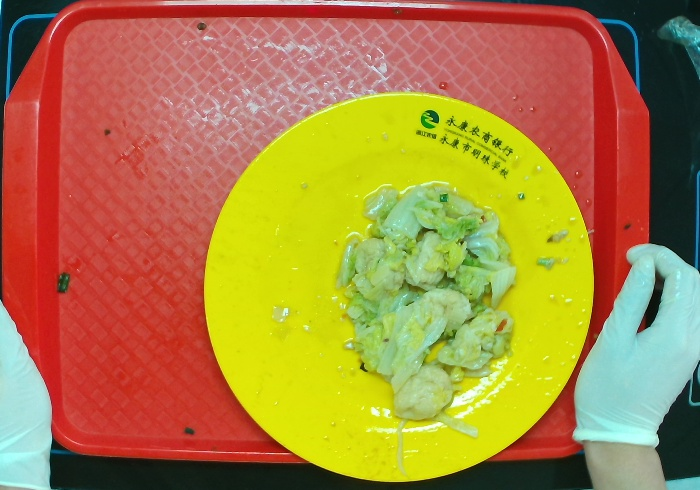YKMZ-Huang_Se_Mian_Pan: (202, 91, 596, 484)
